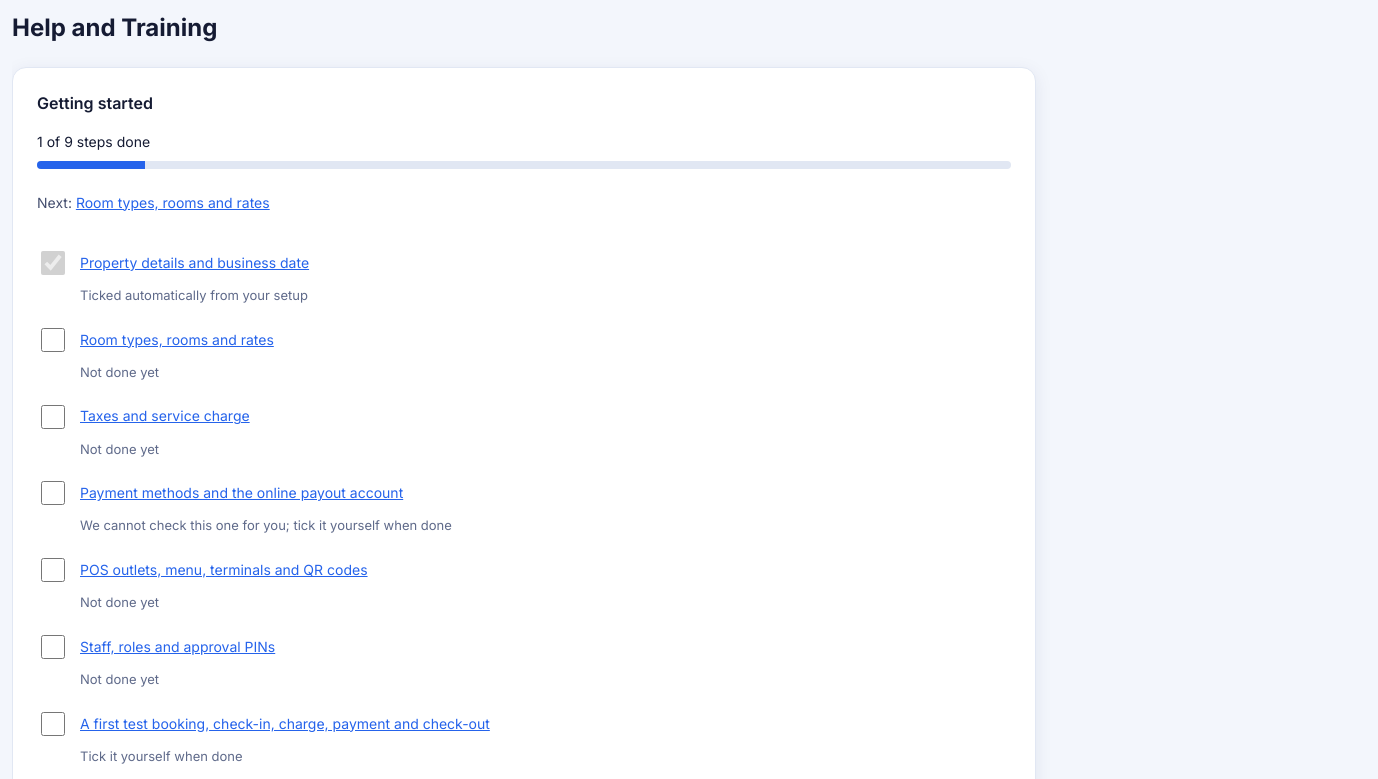
Test case: HelpScreen › lets a hand tick cover a step that cannot be checked, and remembers it in this browser
This screenshot has width=1378, height=779.
expect the text "1 of 9 steps done" is shown: met, box [37,133,150,150]
Click the checkbox named "Payment methods" at [53, 493], box [41,481,65,505]
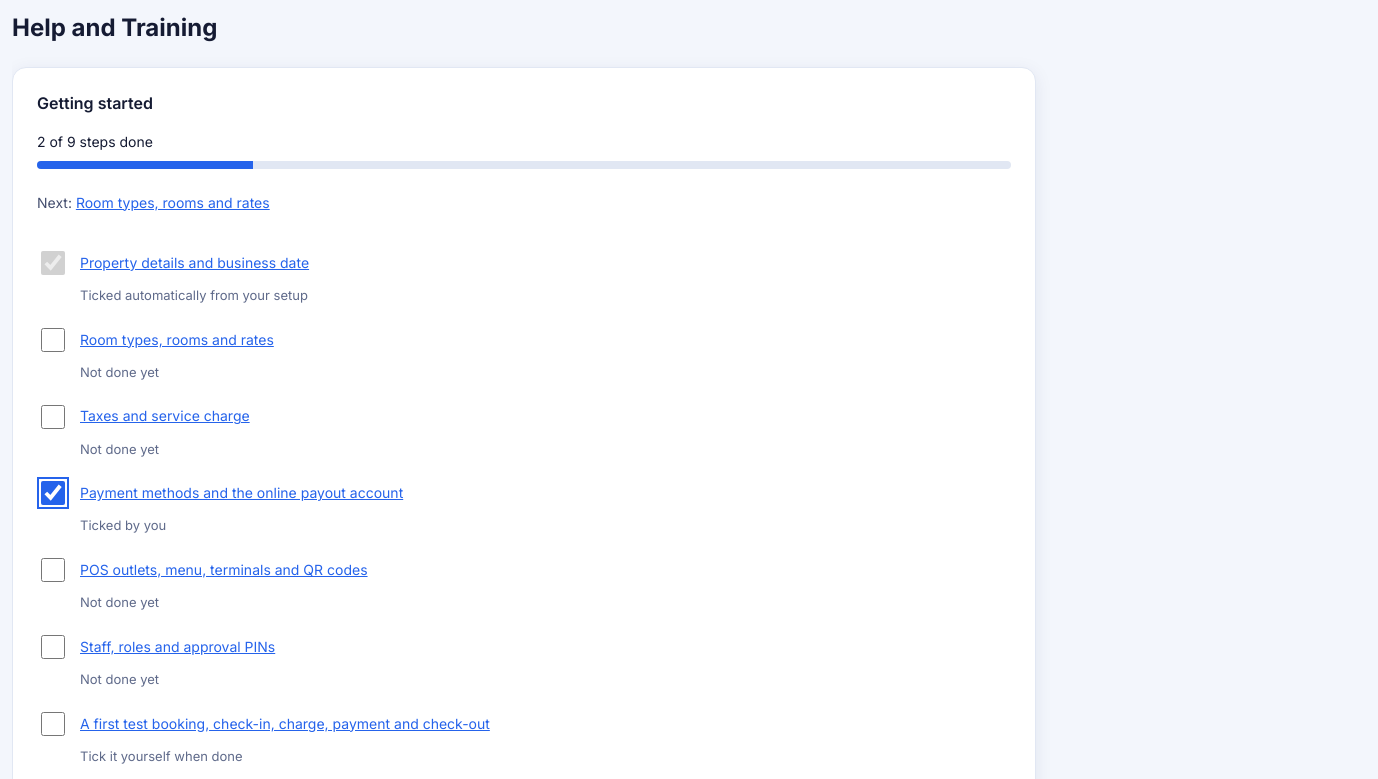
expect the text "2 of 9 steps done" is shown: met, box [37,133,153,150]
